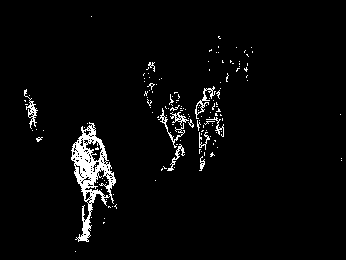person: (73, 120, 117, 244), (192, 86, 227, 172), (160, 91, 194, 175), (22, 88, 43, 143)
